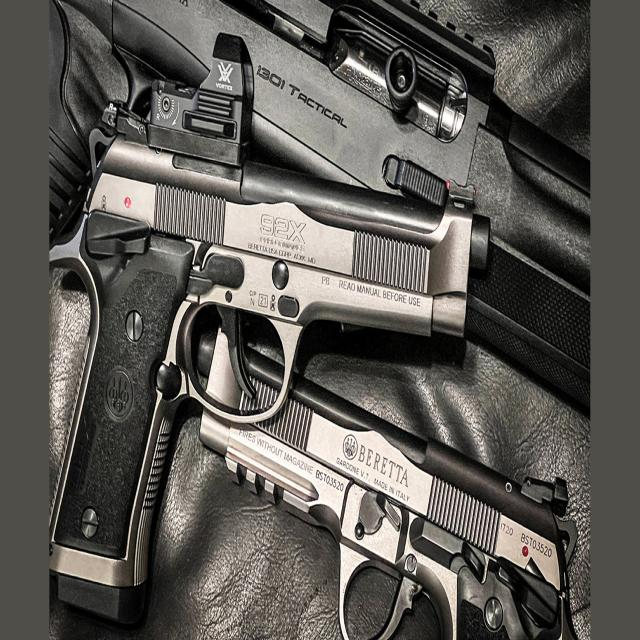Gun: (39, 142, 502, 640)
